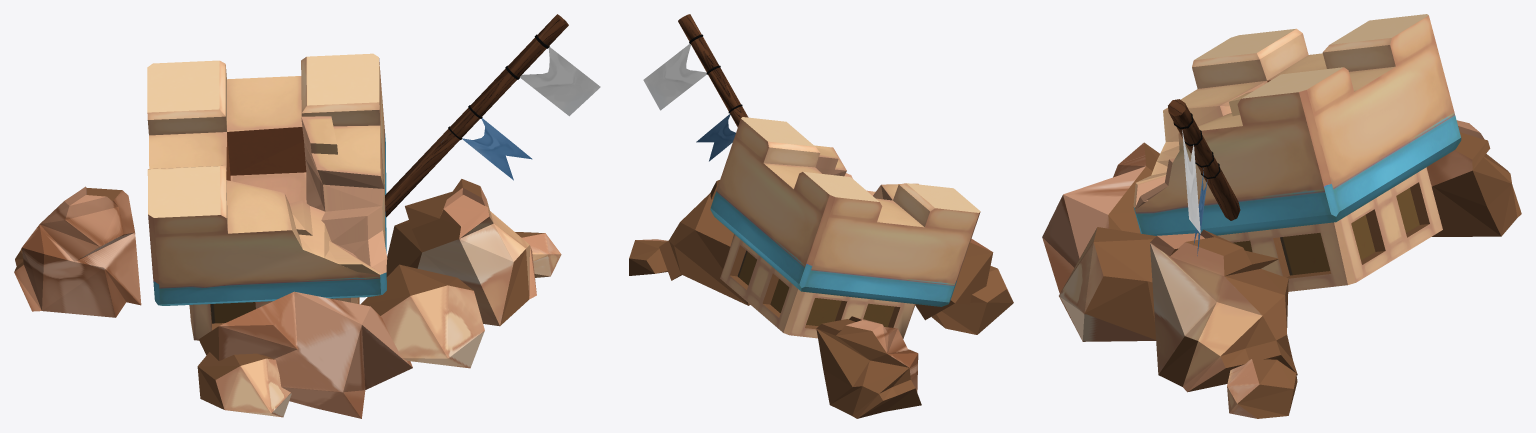
Rendered from BrokenWatchTowerBlue.FBX.
The picture shows the model from 3 angles, left to right: view 1: azimuth 30°, elevation 25°; view 2: azimuth 150°, elevation 25°; view 3: azimuth 270°, elevation 25°; orthographic projection. The views are drawn at different scales.
Parts seen in each view (by area): view 1: BrokenWatchTowerBlue; view 2: BrokenWatchTowerBlue; view 3: BrokenWatchTowerBlue.
Part boxes in pixels (x1,y1,x2,y2): BrokenWatchTowerBlue: [14, 14, 600, 418]; BrokenWatchTowerBlue: [629, 14, 1013, 418]; BrokenWatchTowerBlue: [1042, 14, 1521, 418].
Size of the model in its own units: 441 by 280 by 370.
Materials: 1 (1 with a texture image).
